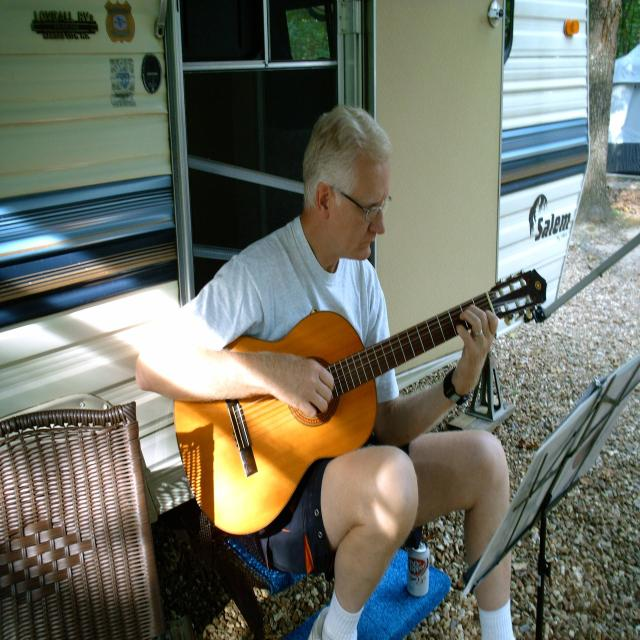guitar: (172, 266, 550, 542)
